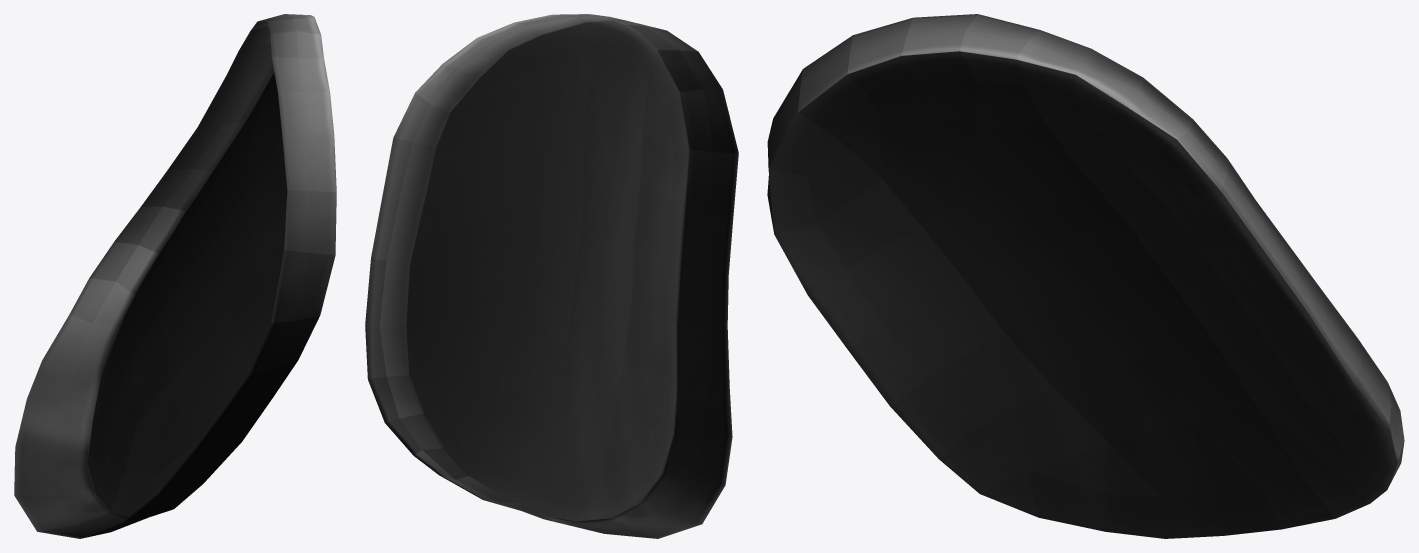
File: pfd_mr_controller_left_grip.obj
3 renders of one model, left to right at view 1: azimuth 30°, elevation 25°; view 2: azimuth 150°, elevation 25°; view 3: azimuth 270°, elevation 25°, orthographic. The views are drawn at different scales.
Parts seen in each view (by area): view 1: pfd_mr_controller_left_grip; view 2: pfd_mr_controller_left_grip; view 3: pfd_mr_controller_left_grip.
Part boxes in pixels (box(x1,y1,x2,y2)): pfd_mr_controller_left_grip: box(14, 14, 336, 538); pfd_mr_controller_left_grip: box(365, 14, 738, 538); pfd_mr_controller_left_grip: box(767, 14, 1404, 538).
Bounding box in the file's own units: 0.0138 × 0.0209 × 0.0204.
Materials: 1 (1 with a texture image).
